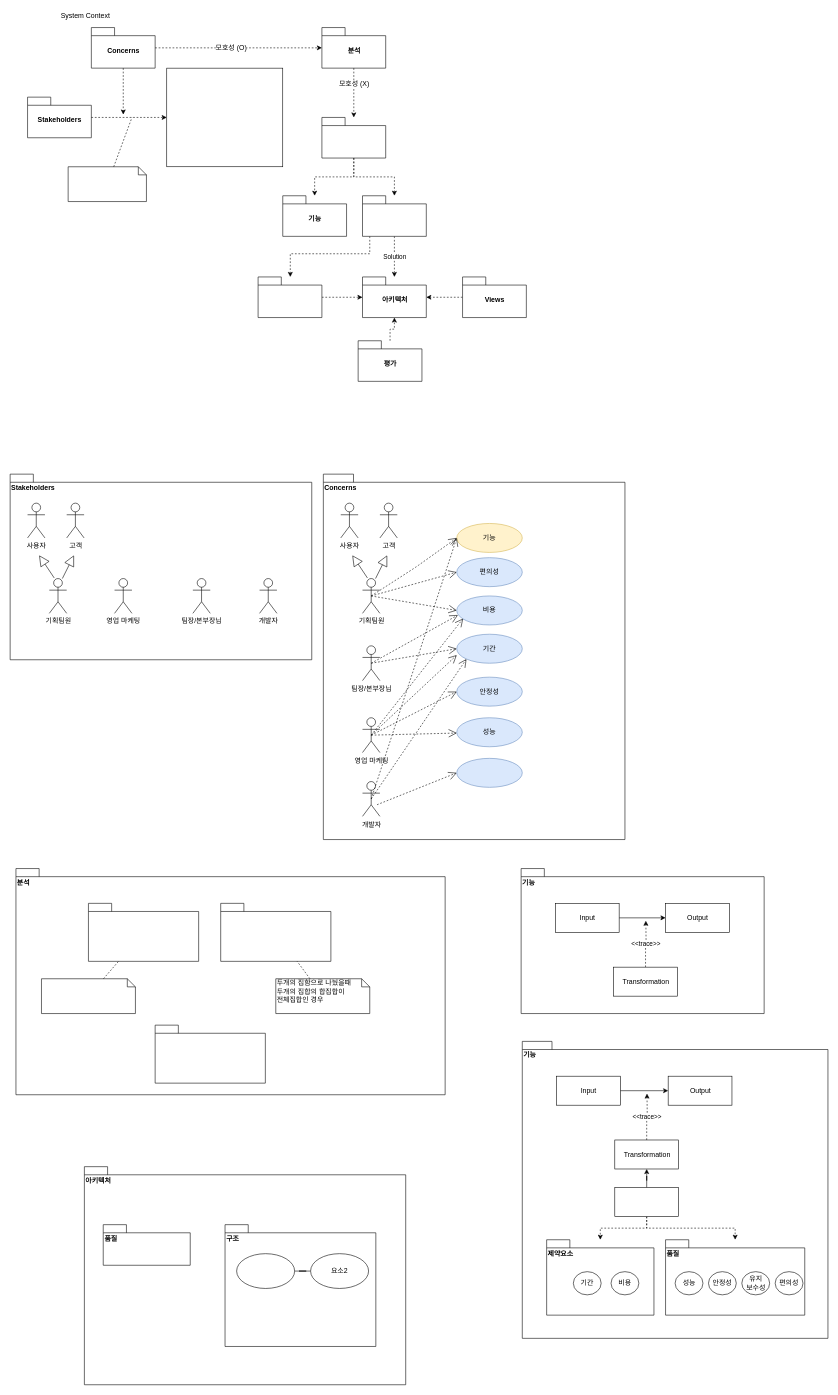
Some shapes in this 838 by 1395 pixel diagram are drawn without their labels. The centre of each missing label's shape, as x and y in pixels:
Collectively Exhaustive: the point at 275,932
Mutuality Exclusive: the point at 143,932
Orthogonal: the point at 210,1054
System: the point at 224,117
두개의 집함으로 나눴을때 두개의 집합의 교집합이 공집합인 경우: the point at 88,996
비기능: the point at 394,215
요구사항: the point at 353,137
요소1: the point at 265,1270
요소와 요소가 모여 하나 이상의 목적을 완전히 달성하는것: the point at 107,184
유지보수: the point at 489,772
전략: the point at 290,297
제약하는 요소: the point at 646,1202
